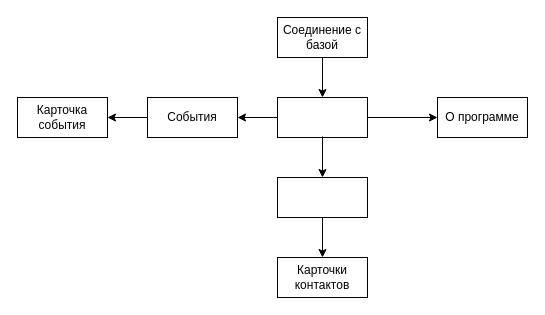
Some shapes in this 545 by 315 pixel diagram are drawn without their labels. Here are the shapes that lost their labels. From the top down, the centre of each, then its label:
(x=322, y=117): Главная форма
(x=322, y=197): Телефонный справочник
